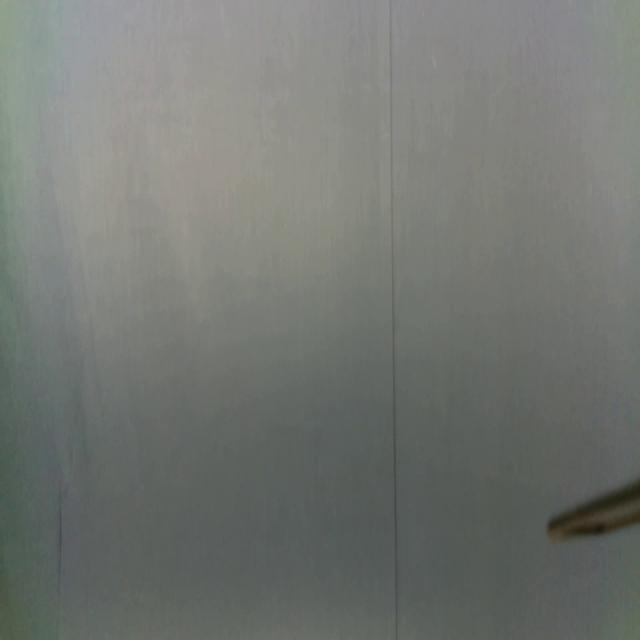crease: (384, 0, 402, 640), (53, 474, 65, 637)
